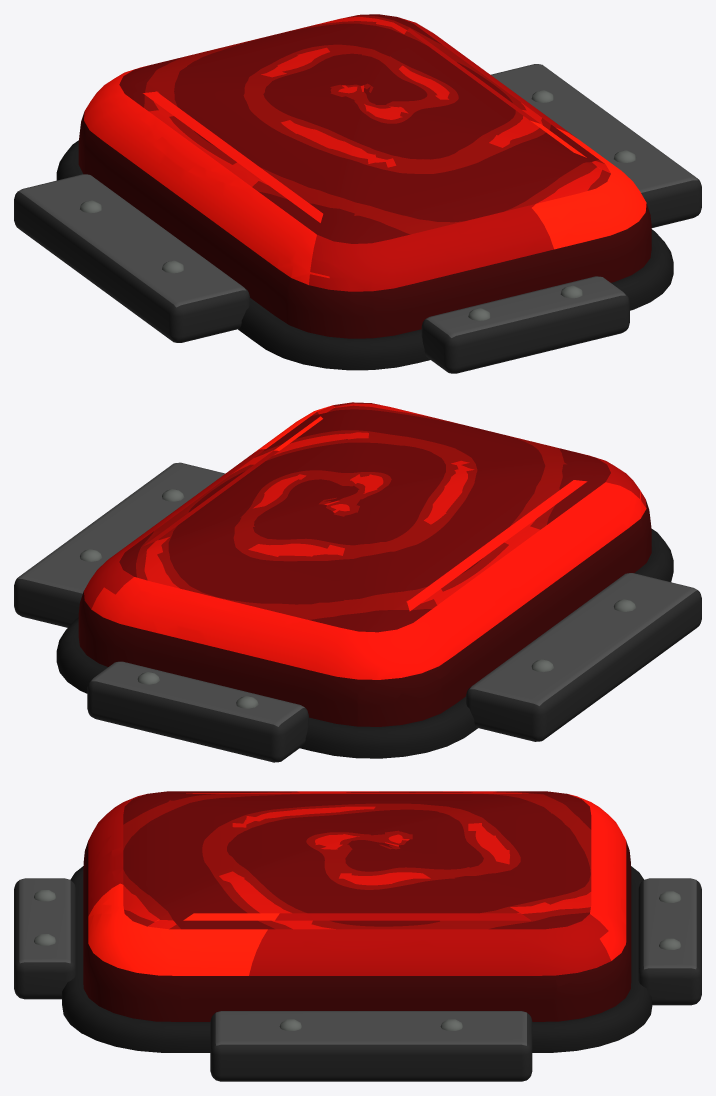
The model's file is redgem_panel.glb.
3 views of the same model, one above another, from view 1: azimuth 30°, elevation 25°; view 2: azimuth 150°, elevation 25°; view 3: azimuth 270°, elevation 25° (orthographic). The views are drawn at different scales.
Visible parts, largest first — view 1: gem, clamp2, clamp1, clamp3, bezel; view 2: gem, clamp2, clamp0, clamp3, bezel; view 3: gem, clamp3, bezel, clamp0, clamp1.
Part boxes in pixels (<box>): gem: <box>78,14,651,338</box>; clamp2: <box>14,174,249,342</box>; clamp1: <box>421,276,629,373</box>; clamp3: <box>490,64,701,227</box>; bezel: <box>56,140,673,370</box>; gem: <box>78,402,651,726</box>; clamp2: <box>466,573,701,741</box>; clamp0: <box>87,661,308,762</box>; clamp3: <box>14,462,225,627</box>; bezel: <box>56,529,673,758</box>; gem: <box>83,791,631,1021</box>; clamp3: <box>210,1011,532,1081</box>; bezel: <box>62,866,652,1052</box>; clamp0: <box>638,878,701,1005</box>; clamp1: <box>14,878,75,999</box>.
Size of the model in its own units: 21.3 by 4.75 by 24.35.
